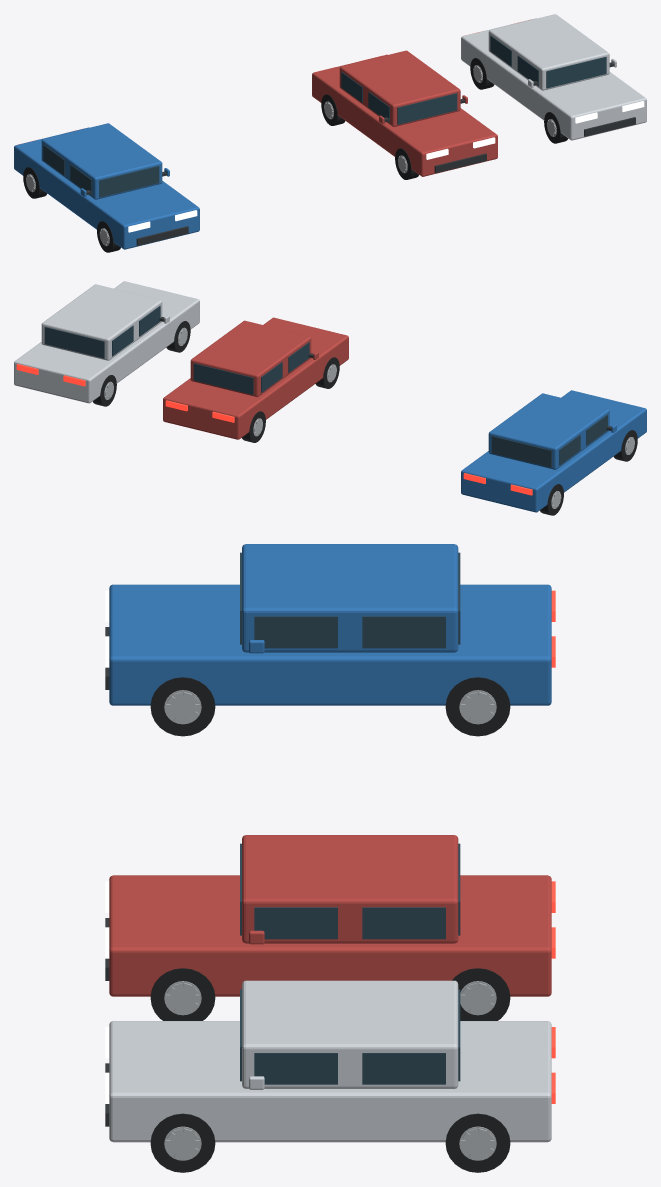
Rendered from ch-cars.glb.
3 views of the same model, one above another, from view 1: azimuth 30°, elevation 25°; view 2: azimuth 150°, elevation 25°; view 3: azimuth 270°, elevation 25° (orthographic). The views are drawn at different scales.
Visible parts, largest first — view 1: ch-cars_blue_body, ch-cars_red_body, ch-cars_white_body, ch-cars_blue_roof, ch-cars_white_roof, ch-cars_red_roof, ch-cars_white_glass_wind, ch-cars_blue_glass_wind, ch-cars_red_glass_wind, ch-cars_blue_grille, ch-cars_red_grille, ch-cars_white_grille (+6 smaller); view 2: ch-cars_white_body, ch-cars_blue_body, ch-cars_red_body, ch-cars_red_roof, ch-cars_blue_roof, ch-cars_white_roof, ch-cars_red_glass_back, ch-cars_white_glass_back, ch-cars_blue_glass_back, ch-cars_blue_glass_rear_R, ch-cars_red_glass_rear_R, ch-cars_white_glass_rear_R (+3 smaller); view 3: ch-cars_blue_body, ch-cars_white_body, ch-cars_red_body, ch-cars_white_roof, ch-cars_blue_roof, ch-cars_red_roof, ch-cars_blue_glass_rear_L, ch-cars_red_glass_rear_L, ch-cars_white_glass_rear_L, ch-cars_blue_glass_front_L, ch-cars_red_glass_front_L, ch-cars_white_glass_front_L (+6 smaller).
Part boxes in pixels (bbox=[...]): ch-cars_blue_body: bbox=[14, 127, 199, 249]; ch-cars_red_body: bbox=[312, 54, 497, 176]; ch-cars_white_body: bbox=[461, 18, 646, 140]; ch-cars_blue_roof: bbox=[41, 123, 162, 199]; ch-cars_white_roof: bbox=[488, 14, 609, 90]; ch-cars_red_roof: bbox=[339, 50, 460, 126]; ch-cars_white_glass_wind: bbox=[546, 57, 606, 88]; ch-cars_blue_glass_wind: bbox=[99, 166, 159, 197]; ch-cars_red_glass_wind: bbox=[397, 93, 457, 124]; ch-cars_blue_grille: bbox=[136, 226, 188, 245]; ch-cars_red_grille: bbox=[434, 153, 486, 172]; ch-cars_white_grille: bbox=[584, 117, 635, 136]; ch-cars_white_body: bbox=[14, 281, 199, 403]; ch-cars_blue_body: bbox=[461, 390, 646, 512]; ch-cars_red_body: bbox=[163, 317, 348, 439]; ch-cars_red_roof: bbox=[190, 320, 311, 396]; ch-cars_blue_roof: bbox=[488, 393, 609, 469]; ch-cars_white_roof: bbox=[41, 284, 162, 360]; ch-cars_red_glass_back: bbox=[193, 363, 253, 394]; ch-cars_white_glass_back: bbox=[44, 327, 104, 358]; ch-cars_blue_glass_back: bbox=[491, 436, 551, 467]; ch-cars_blue_glass_rear_R: bbox=[559, 434, 580, 465]; ch-cars_red_glass_rear_R: bbox=[261, 362, 282, 392]; ch-cars_white_glass_rear_R: bbox=[112, 325, 133, 356]; ch-cars_blue_body: bbox=[109, 584, 551, 705]; ch-cars_white_body: bbox=[109, 1021, 551, 1142]; ch-cars_red_body: bbox=[109, 875, 551, 996]; ch-cars_white_roof: bbox=[242, 980, 458, 1088]; ch-cars_blue_roof: bbox=[242, 544, 458, 652]; ch-cars_red_roof: bbox=[242, 835, 458, 943]; ch-cars_blue_glass_rear_L: bbox=[362, 616, 445, 648]; ch-cars_red_glass_rear_L: bbox=[362, 907, 445, 939]; ch-cars_white_glass_rear_L: bbox=[362, 1053, 445, 1084]; ch-cars_blue_glass_front_L: bbox=[254, 616, 337, 648]; ch-cars_red_glass_front_L: bbox=[254, 907, 337, 939]; ch-cars_white_glass_front_L: bbox=[254, 1053, 337, 1084].
Bounding box in the file's own units: 12.52 × 1.38 × 4.58.
